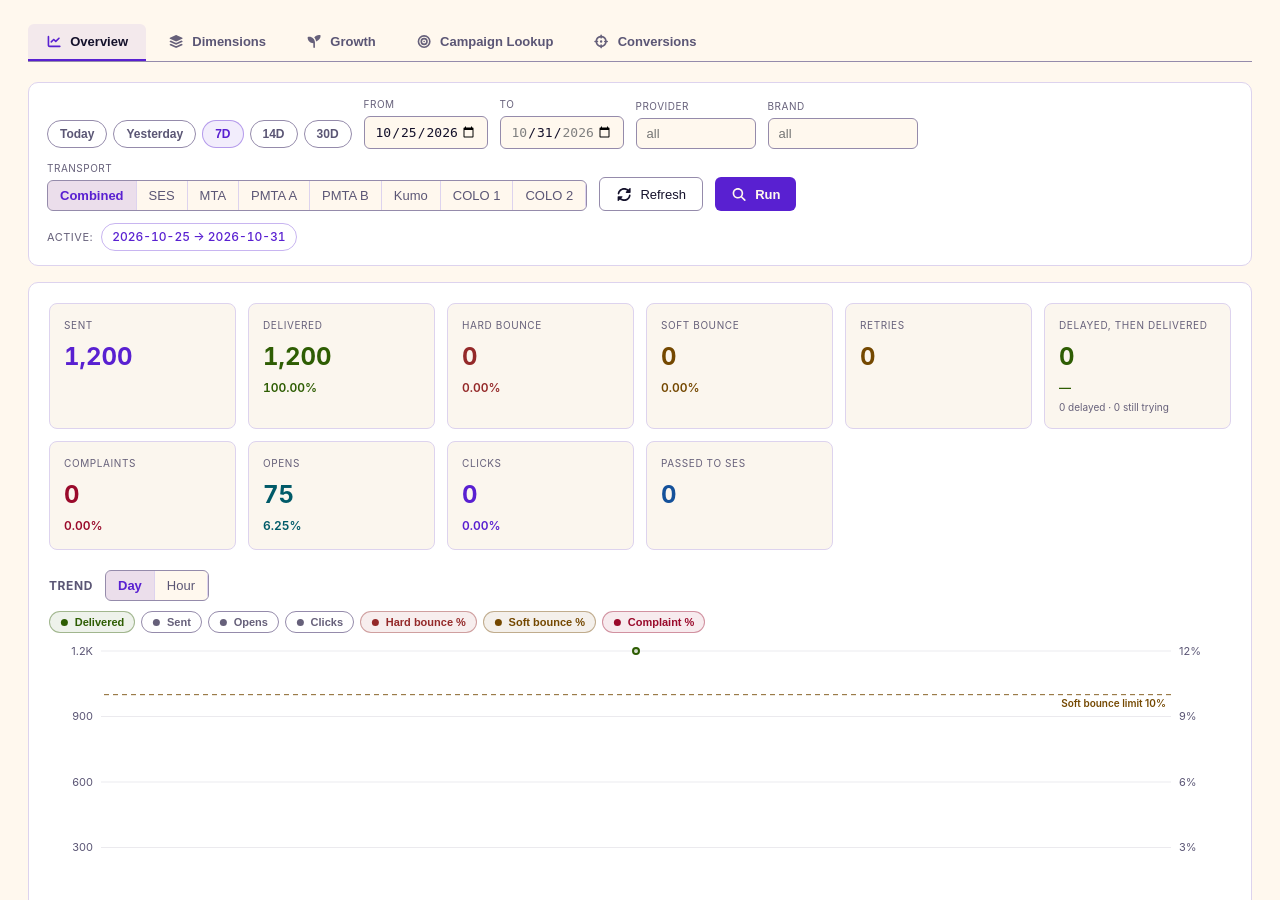
Test: Dimensions › Rows on the main cube make no fetch and use the route names
The width and height of the screenshot is (1280, 900).
Click the button "Dimensions".
click(217, 42)  # box [150,24,284,61]
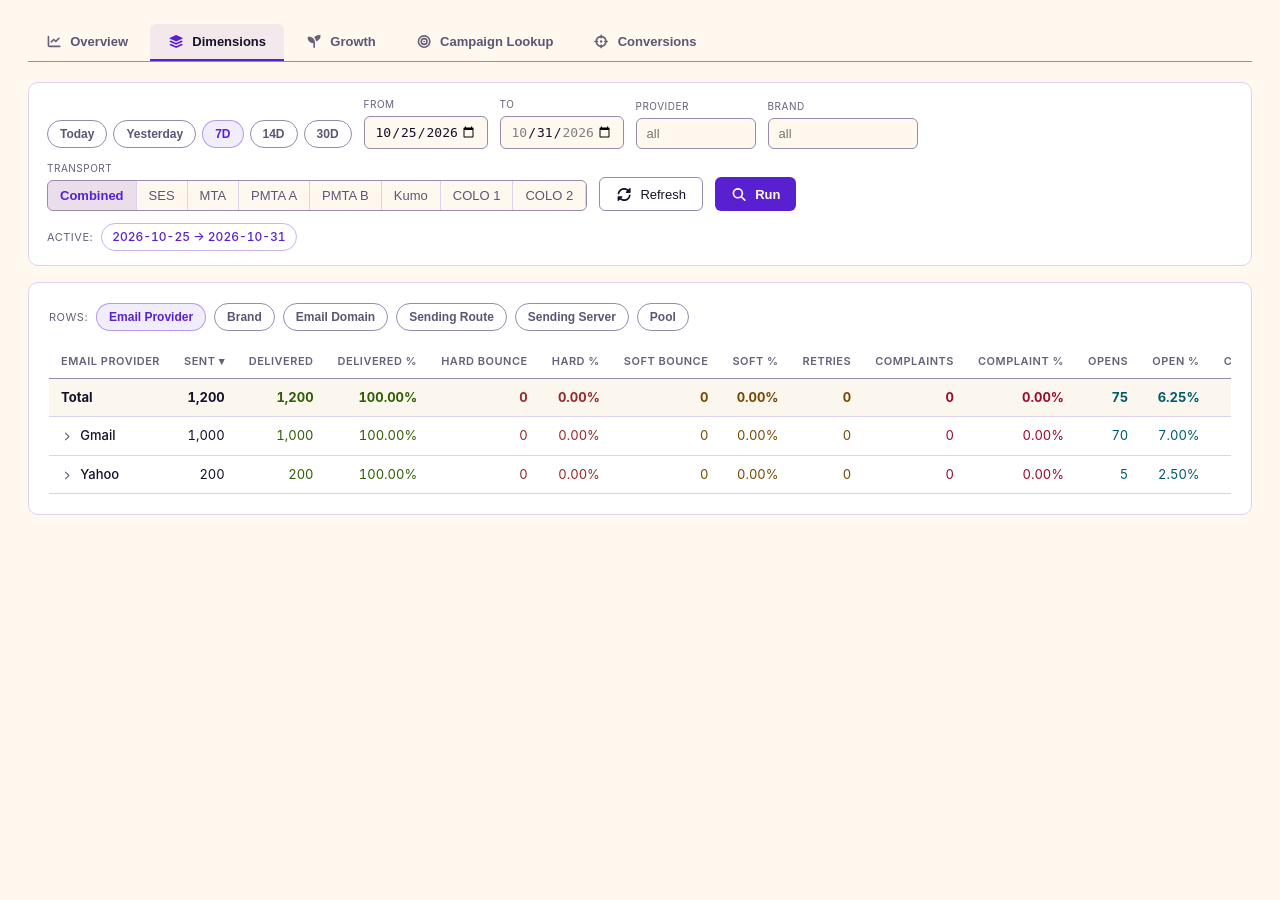
Expected: the button "Sending Route" is shown
Click the button "Sending Route".
click(451, 317)  # box [396,303,507,331]
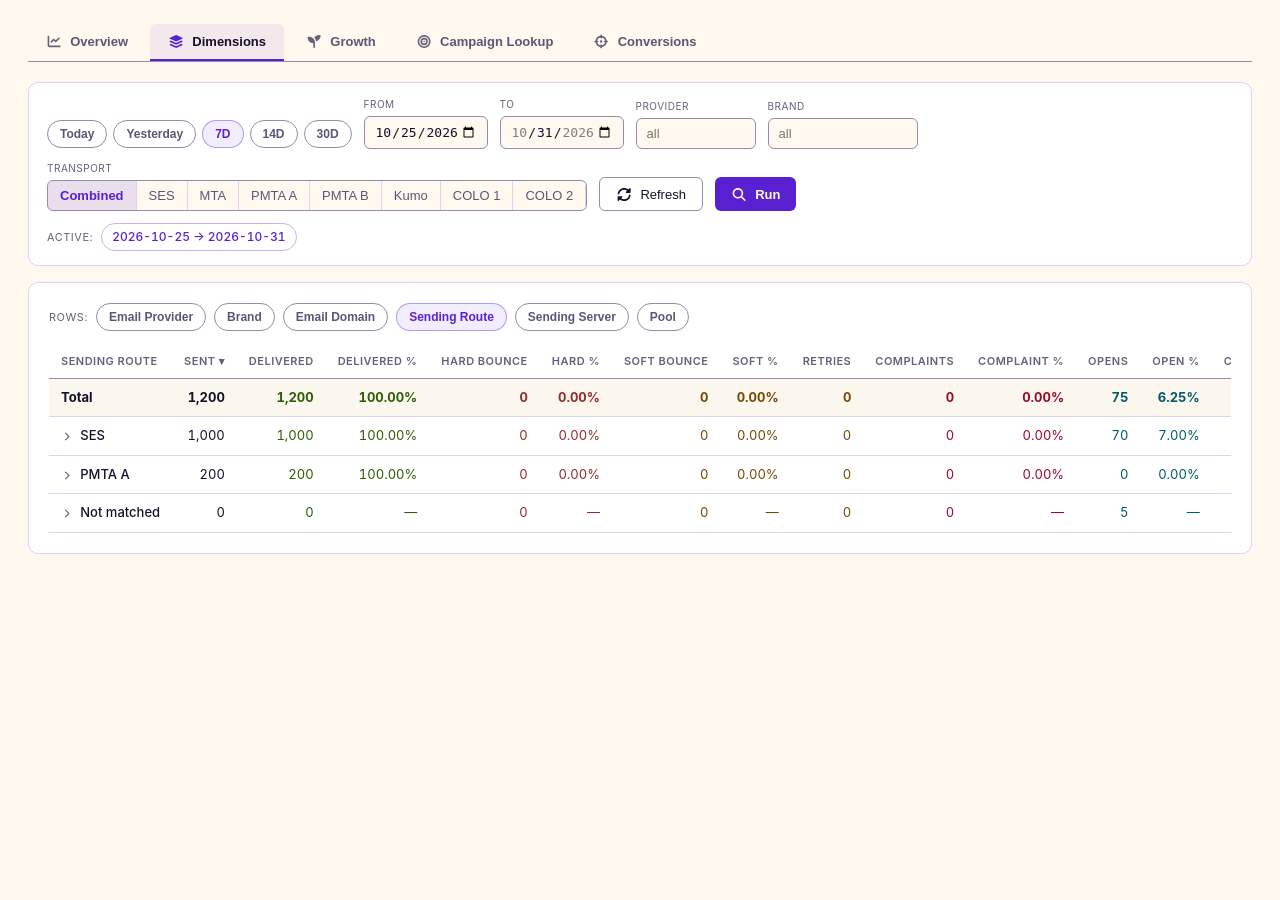
Expected: the text "SES" is shown, [49,416,172,455]
Expected: the text "PMTA A" is shown, [49,455,172,494]
